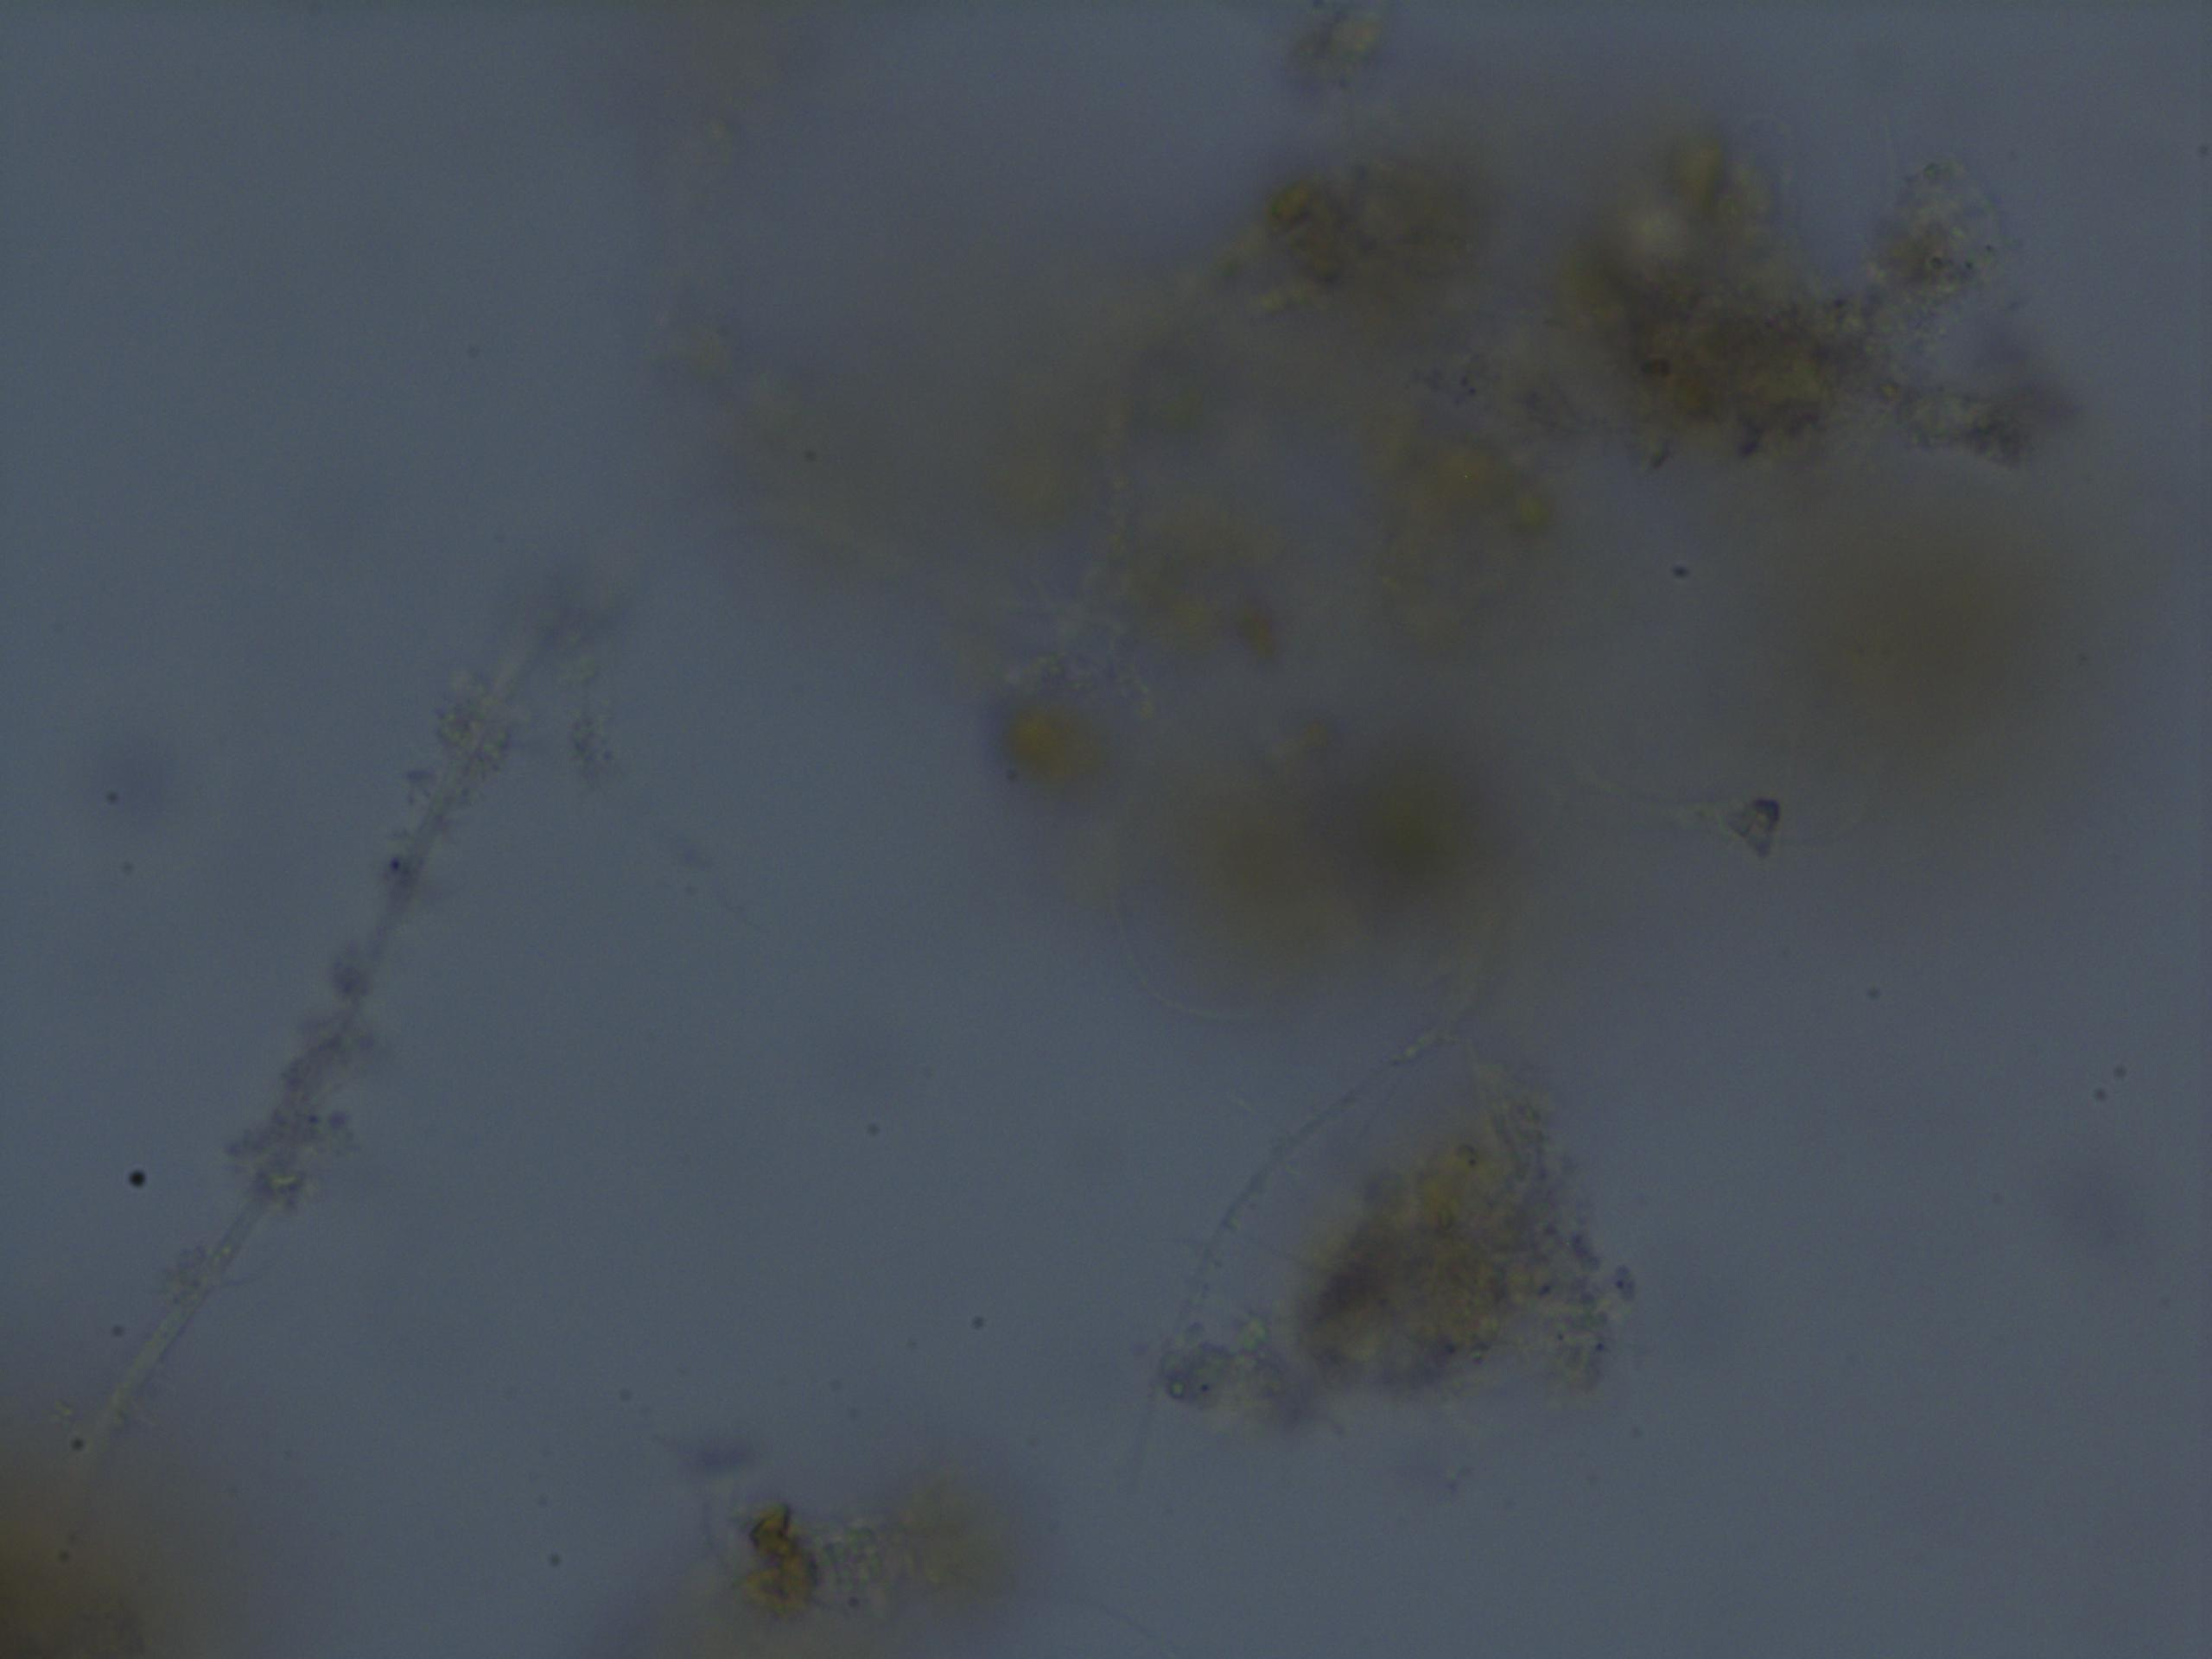filament: (45, 425, 592, 1521), (1089, 967, 1484, 1493)
